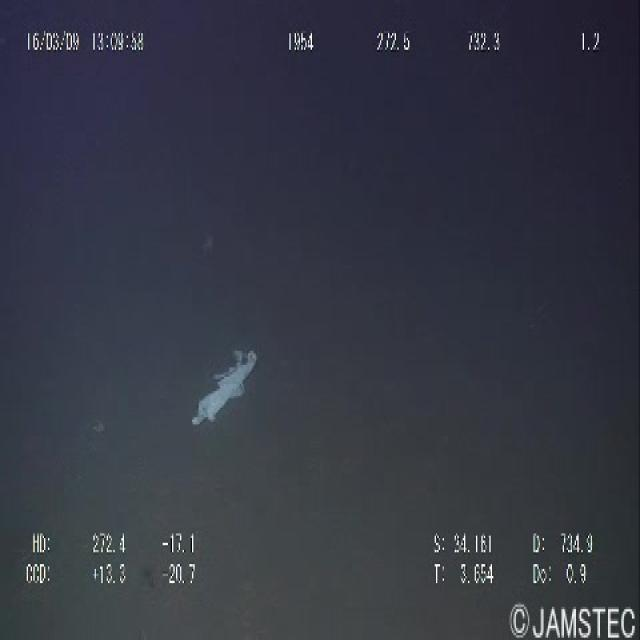plastic: (186, 332, 262, 438)
